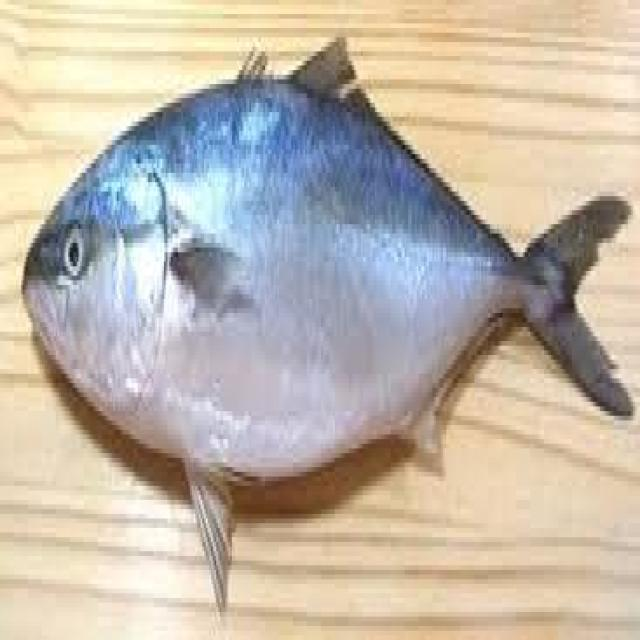Kingfish: (18, 5, 640, 618)
